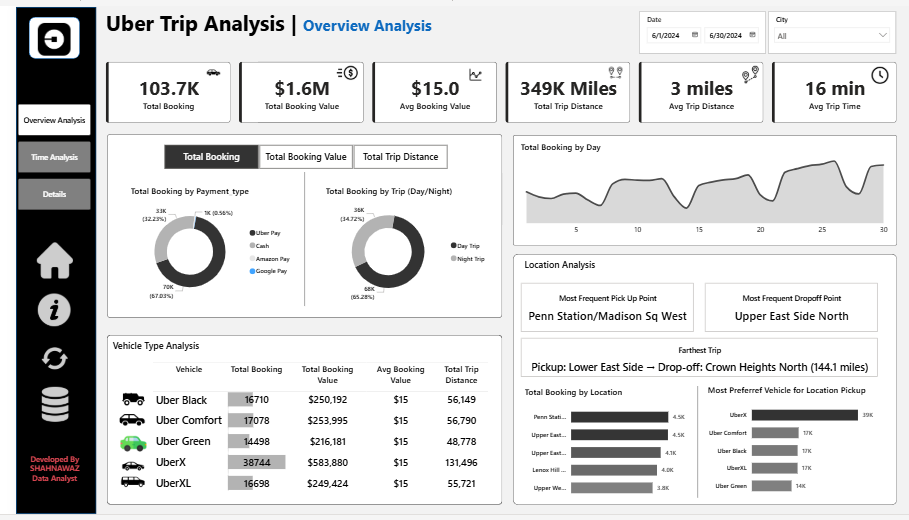

What the dashboard file says about the page in this screenshot:
{"tool":"powerbi","page":{"name":"Overview Analysis","canvas":[1600,900],"ordinal":0},"visuals":[{"type":"shape","box":[0,1.8,142.2,898.2],"z":0},{"type":"textbox","box":[154.8,0,673.2,70.2],"z":1000},{"type":"cardVisual","fields":{"Data":["Trip Details.Total Booking","Trip Details.Total Booking Amount","Trip Details.Avg Booking Amount","Trip Details.Total Trip Distance","Trip Details.Avg Trip Distance","Trip Details.Avg Trip Time"]},"box":[154.8,93.6,1414.8,118.8],"z":2000},{"type":"image","box":[563.4,93.6,46.8,48.6],"z":3000},{"type":"image","box":[1045.8,93.6,34.2,48.6],"z":4000},{"type":"image","box":[1274.4,100.8,57.6,41.4],"z":5000},{"type":"image","box":[1508.4,102.6,46.8,39.6],"z":6000},{"type":"shape","box":[162,226.8,700.2,325.8],"z":7000},{"type":"image","box":[783,104.4,61.2,34.2],"z":8000},{"type":"image","box":[318.6,100.8,61.2,34.2],"z":9000},{"type":"slicer","fields":{"Values":["Dynamic Measure.Dynamic Measure"]},"box":[237.6,239.4,550.8,55.8],"z":10000},{"type":"donutChart","fields":{"Y":["Trip Details.Total Booking"],"Category":["Trip Details.Payment_type"]},"box":[198,316.8,300.6,216],"z":11000},{"type":"donutChart","title":"Total Booking by Trip (Day/Night)","fields":{"Y":["Trip Details.Total Booking"],"Category":["Trip Details.Trip Type (Day/Night)"]},"box":[543.6,316.8,300.6,216],"z":12000},{"type":"shape","box":[162,583.2,700.2,300.6],"z":13000},{"type":"pivotTable","fields":{"Rows":["Trip Details.Vehicle"],"Values":["Trip Details.Total Booking","Trip Details.Total Booking Value","Trip Details.Avg Booking Value","Trip Details.Total Trip Distance Measure"]},"box":[237.6,624.6,610.2,244.8],"z":14000},{"type":"image","box":[165.6,705.6,82.8,55.8],"z":15000},{"type":"image","box":[177.1,671.4,61.2,50.4],"z":16000},{"type":"image","box":[169.9,747,75.6,55.8],"z":17000},{"type":"image","box":[156.4,815.4,102.6,55.8],"z":18000},{"type":"image","box":[148.3,788.4,118.8,54],"z":19000},{"type":"card","fields":{"Values":["Trip Details.Title for Grid"]},"box":[147.6,583.2,201.6,41.4],"z":20000},{"type":"shape","box":[880.2,228.6,680.4,196.2],"z":21000},{"type":"areaChart","fields":{"Category":["Calender Table.Date.Variation.Date Hierarchy.Day"],"Y":["Trip Details.Total Booking"]},"box":[889.2,239.4,662.4,174.6],"z":22000},{"type":"shape","box":[880.2,439.2,680.4,444.6],"z":23000},{"type":"cardVisual","fields":{"Data":["Trip Details.Most Frequent Pick Up Point","Trip Details.Most Frequent Dropoff Point"]},"box":[889.2,486,642.6,97.2],"z":24000},{"type":"cardVisual","fields":{"Data":["Trip Details.Farthest Trip"]},"box":[889.2,583.2,642.6,79.2],"z":25000},{"type":"barChart","fields":{"Category":["Location Table.Location"],"Y":["Trip Details.Total Booking"]},"box":[896.4,673.2,297,208.8],"z":26000},{"type":"barChart","title":"Most Preferref Vehicle for Location Pickup","fields":{"Category":["Trip Details.Vehicle"],"Y":["CountNonNull(Trip Details.PULocationID)"]},"box":[1220.4,669.6,311.4,208.8],"z":27000},{"type":"shape","box":[498.2,294.6,26.8,237.5],"z":28000},{"type":"shape","box":[1193.4,673.2,27,198],"z":29000},{"type":"card","fields":{"Values":["Trip Details.Title for Location"]},"box":[862.2,439.2,201.6,41.4],"z":30000},{"type":"slicer","fields":{"Values":["Calender Table.Date"]},"box":[1103.4,9,225,75.6],"z":31000},{"type":"slicer","fields":{"Values":["Location Table.City"]},"box":[1332,9,226.8,75.6],"z":32000},{"type":"shape","box":[23.4,19.8,90,73.8],"z":33000,"group":"g2"},{"type":"pageNavigator","box":[3.6,172.8,129.6,189],"z":33000},{"type":"image","box":[31.7,412.2,73.8,75.6],"z":34000},{"type":"image","box":[41.4,588.6,55.8,72],"z":35000},{"type":"image","box":[34.2,502.2,68.4,73.8],"z":36000},{"type":"image","box":[28.1,669.6,81,72],"z":37000},{"type":"group","id":"g1","title":"Group 2","box":[23.4,19.8,90,75.6],"z":38000},{"type":"group","id":"g2","title":"Group 1","box":[23.4,19.8,90,73.8],"z":38000,"group":"g1"},{"type":"image","box":[34.2,23.4,68.4,72],"z":39000,"group":"g1"},{"type":"textbox","box":[3.6,788.4,129.6,72],"z":40000}]}

Visuals, with their boxes on the page's 1600x900 design canvas (x1, y1, x2, y2). These are canvas units, not pixel positions in the 909x520 screenshot, which may show the page scaled, cropped or inside an application window:
shape: BBox(0, 2, 142, 900)
textbox: BBox(155, 0, 828, 70)
cardVisual - Trip Details.Total Booking x Trip Details.Total Booking Amount: BBox(155, 94, 1570, 212)
image: BBox(563, 94, 610, 142)
image: BBox(1046, 94, 1080, 142)
image: BBox(1274, 101, 1332, 142)
image: BBox(1508, 103, 1555, 142)
shape: BBox(162, 227, 862, 553)
image: BBox(783, 104, 844, 139)
image: BBox(319, 101, 380, 135)
slicer - Dynamic Measure.Dynamic Measure: BBox(238, 239, 788, 295)
donutChart - Trip Details.Total Booking x Trip Details.Payment_type: BBox(198, 317, 499, 533)
"Total Booking by Trip (Day/Night)" donutChart: BBox(544, 317, 844, 533)
shape: BBox(162, 583, 862, 884)
pivotTable - Trip Details.Vehicle x Trip Details.Total Booking: BBox(238, 625, 848, 869)
image: BBox(166, 706, 248, 761)
image: BBox(177, 671, 238, 722)
image: BBox(170, 747, 246, 803)
image: BBox(156, 815, 259, 871)
image: BBox(148, 788, 267, 842)
card - Trip Details.Title for Grid: BBox(148, 583, 349, 625)
shape: BBox(880, 229, 1561, 425)
areaChart - Calender Table.Date.Variation.Date Hierarchy.Day x Trip Details.Total Booking: BBox(889, 239, 1552, 414)
shape: BBox(880, 439, 1561, 884)
cardVisual - Trip Details.Most Frequent Pick Up Point x Trip Details.Most Frequent Dropoff Point: BBox(889, 486, 1532, 583)
cardVisual - Trip Details.Farthest Trip: BBox(889, 583, 1532, 662)
barChart - Location Table.Location x Trip Details.Total Booking: BBox(896, 673, 1193, 882)
"Most Preferref Vehicle for Location Pickup" barChart: BBox(1220, 670, 1532, 878)
shape: BBox(498, 295, 525, 532)
shape: BBox(1193, 673, 1220, 871)
card - Trip Details.Title for Location: BBox(862, 439, 1064, 481)
slicer - Calender Table.Date: BBox(1103, 9, 1328, 85)
slicer - Location Table.City: BBox(1332, 9, 1559, 85)
shape: BBox(23, 20, 113, 94)
pageNavigator: BBox(4, 173, 133, 362)
image: BBox(32, 412, 106, 488)
image: BBox(41, 589, 97, 661)
image: BBox(34, 502, 103, 576)
image: BBox(28, 670, 109, 742)
"Group 2" group: BBox(23, 20, 113, 95)
"Group 1" group: BBox(23, 20, 113, 94)
image: BBox(34, 23, 103, 95)
textbox: BBox(4, 788, 133, 860)
